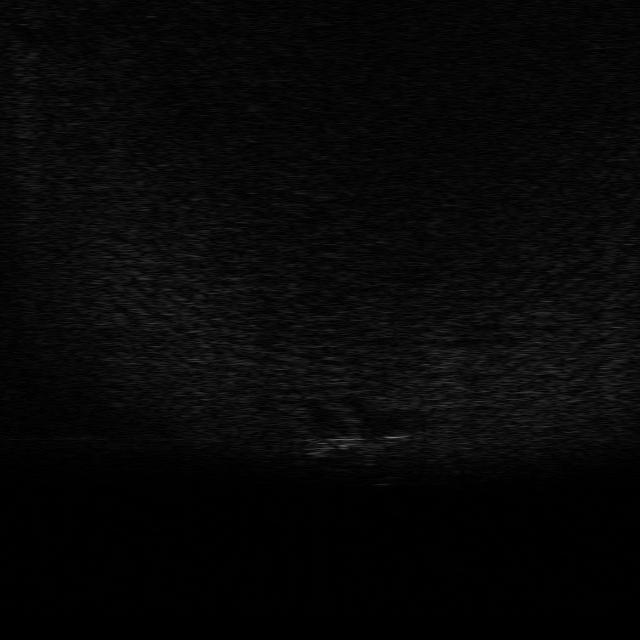plane: (305, 414, 413, 465)
